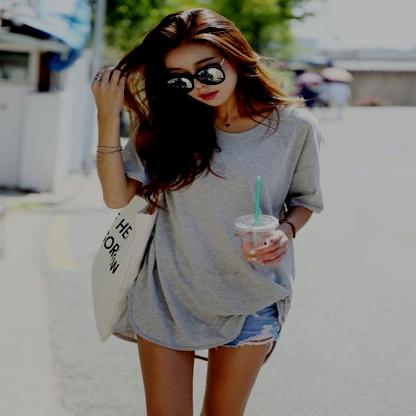dress: (112, 103, 324, 350)
jacket: (219, 272, 285, 348)
